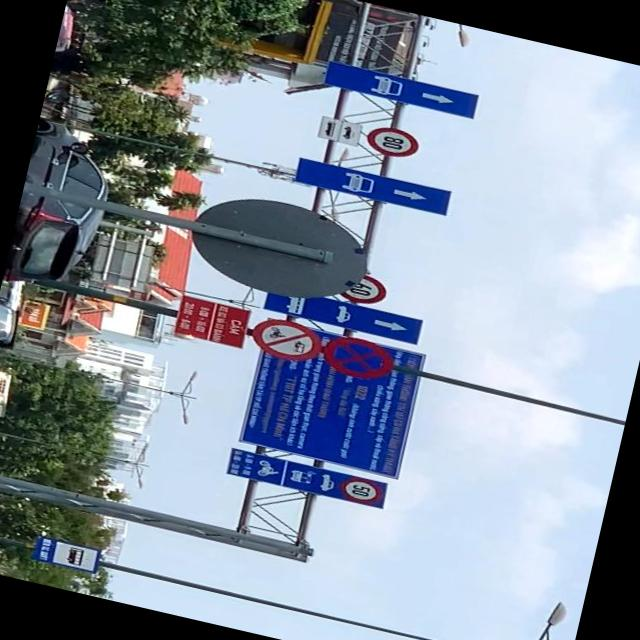P-104: (250, 313, 322, 362)
P-130: (317, 333, 393, 382)
